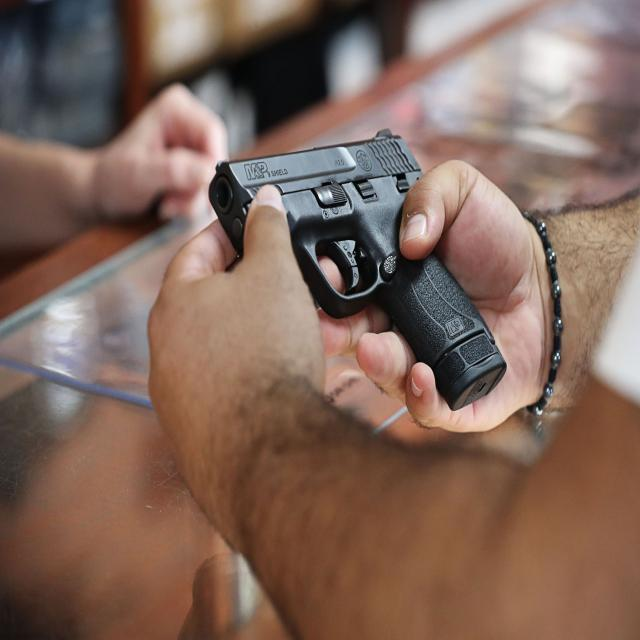HandGun: (208, 130, 507, 412)
